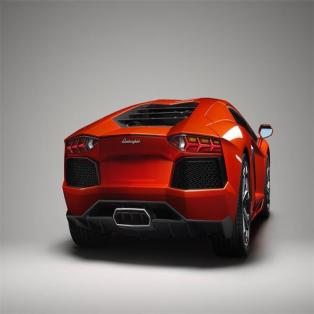Auto: (61, 96, 274, 261)
